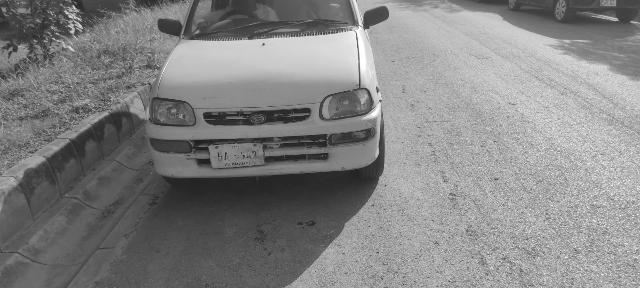Number: (217, 149, 259, 164)
